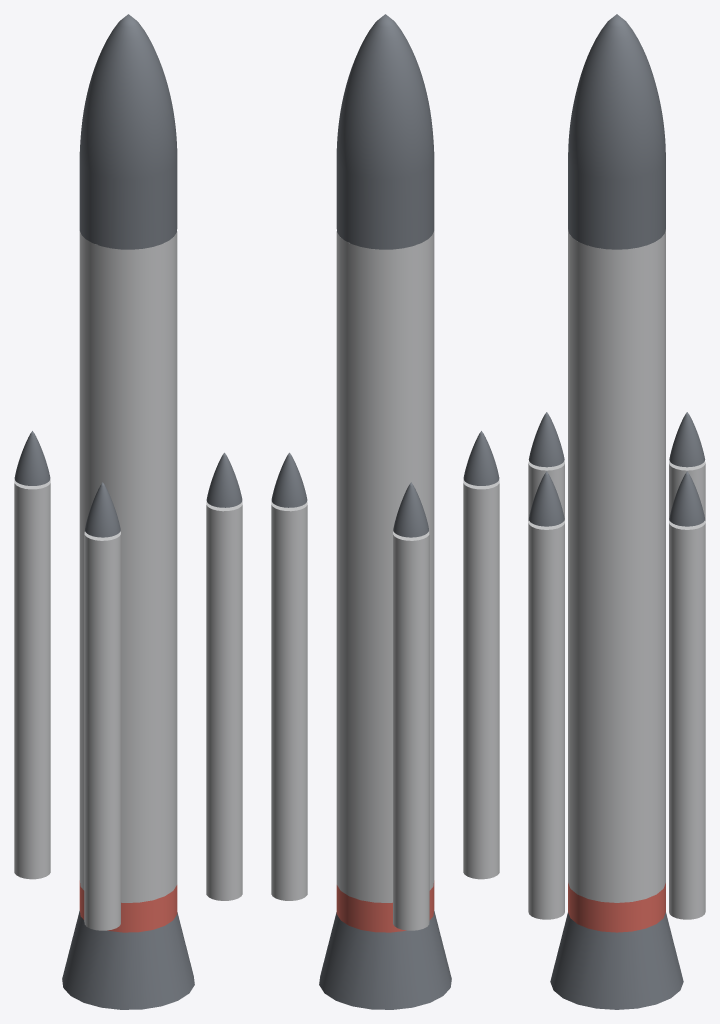
The model's file is longmarch5.glb.
The picture shows the model from 3 angles, left to right: view 1: azimuth 30°, elevation 25°; view 2: azimuth 150°, elevation 25°; view 3: azimuth 270°, elevation 25°; orthographic projection.
Visible parts, largest first — view 1: 芯级, 整流罩, 助推器1, 助推器2, 助推器0, 尾裙, 红色环带, 助推器头0, 助推器头1, 助推器头2; view 2: 芯级, 整流罩, 助推器2, 助推器1, 助推器3, 尾裙, 红色环带, 助推器头3, 助推器头2, 助推器头1; view 3: 芯级, 整流罩, 助推器0, 助推器3, 尾裙, 红色环带, 助推器头1, 助推器头2, 助推器头0, 助推器头3, 助推器1, 助推器2.
Part boxes in pixels (<box>): 芯级: <box>79,231,177,902</box>; 整流罩: <box>79,14,177,249</box>; 助推器1: <box>84,531,120,930</box>; 助推器2: <box>14,480,50,879</box>; 助推器0: <box>206,502,242,900</box>; 尾裙: <box>62,910,194,1009</box>; 红色环带: <box>79,880,177,932</box>; 助推器头0: <box>206,452,242,507</box>; 助推器头1: <box>85,482,120,537</box>; 助推器头2: <box>14,431,50,485</box>; 芯级: <box>336,231,434,902</box>; 整流罩: <box>336,14,434,249</box>; 助推器2: <box>393,531,429,930</box>; 助推器1: <box>463,480,499,879</box>; 助推器3: <box>271,502,307,900</box>; 尾裙: <box>319,910,451,1009</box>; 红色环带: <box>336,880,434,932</box>; 助推器头3: <box>271,452,307,507</box>; 助推器头2: <box>393,482,428,537</box>; 助推器头1: <box>463,431,499,485</box>; 芯级: <box>568,229,665,902</box>; 整流罩: <box>568,14,665,249</box>; 助推器0: <box>528,520,564,919</box>; 助推器3: <box>669,520,705,919</box>; 尾裙: <box>550,912,683,1009</box>; 红色环带: <box>568,883,665,932</box>; 助推器头1: <box>528,412,564,467</box>; 助推器头2: <box>669,412,705,467</box>; 助推器头0: <box>529,471,564,526</box>; 助推器头3: <box>669,471,704,526</box>; 助推器1: <box>528,461,564,521</box>; 助推器2: <box>669,461,705,521</box>.
Bounding box in the file's own units: 5.98 × 36 × 5.98.
